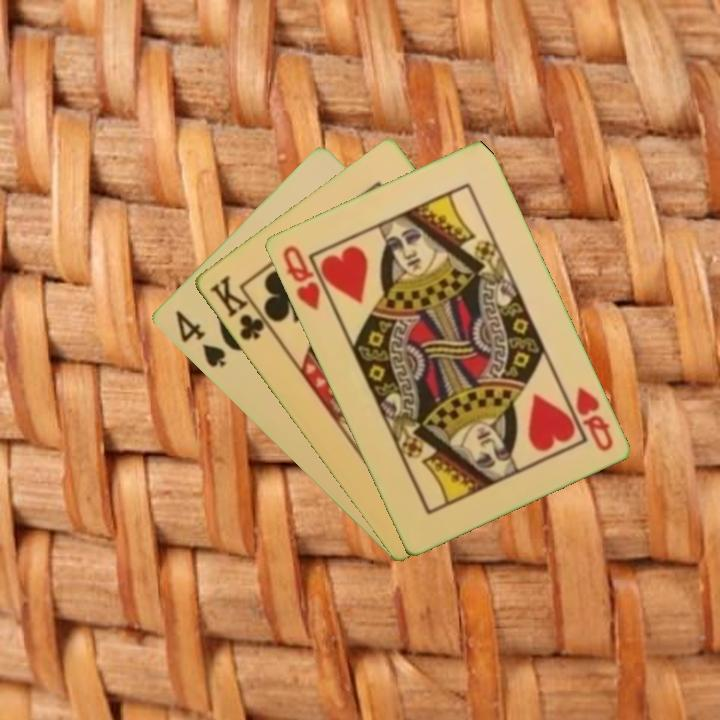4s: (171, 307, 228, 370)
Kc: (205, 271, 275, 344)
Qh: (278, 241, 323, 313), (571, 382, 616, 454)
